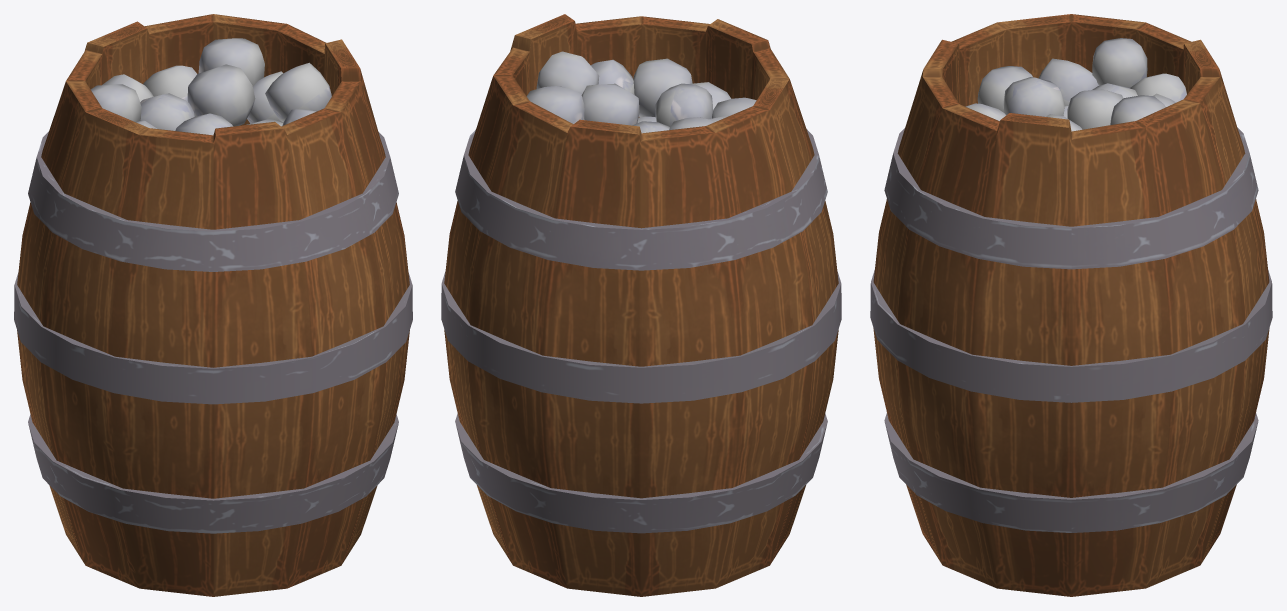
Rendered from Barrel_Apples.fbx.
3 views of the same model, side by side, from view 1: azimuth 30°, elevation 25°; view 2: azimuth 150°, elevation 25°; view 3: azimuth 270°, elevation 25° (orthographic).
Parts seen in each view (by area): view 1: Barrel_Apples; view 2: Barrel_Apples; view 3: Barrel_Apples.
Boxes of the visible parts, x1=… form: Barrel_Apples: x1=14, y1=14, x2=412, y2=596; Barrel_Apples: x1=441, y1=14, x2=841, y2=596; Barrel_Apples: x1=870, y1=14, x2=1272, y2=596.
Bounding box in the file's own units: 69.8 × 89.8 × 69.8.
